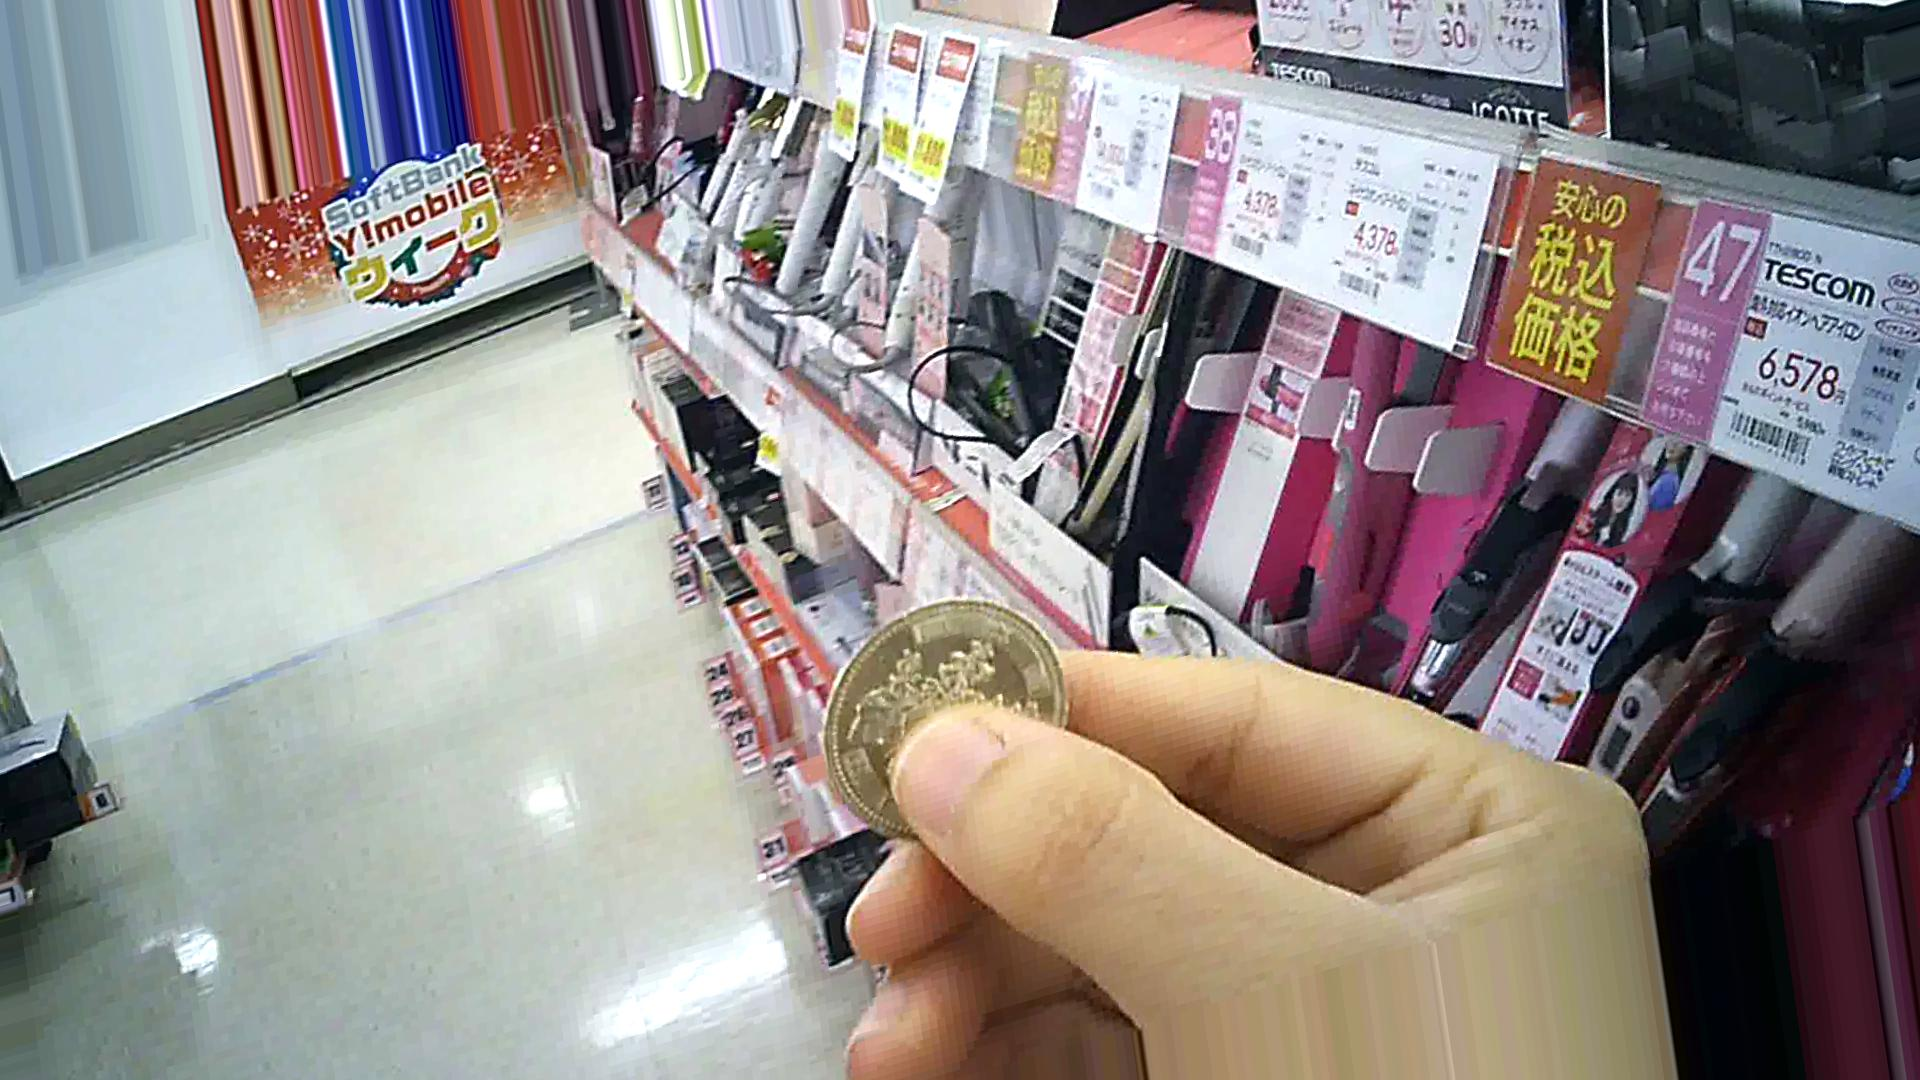500 Yen: (820, 585, 1072, 839)
